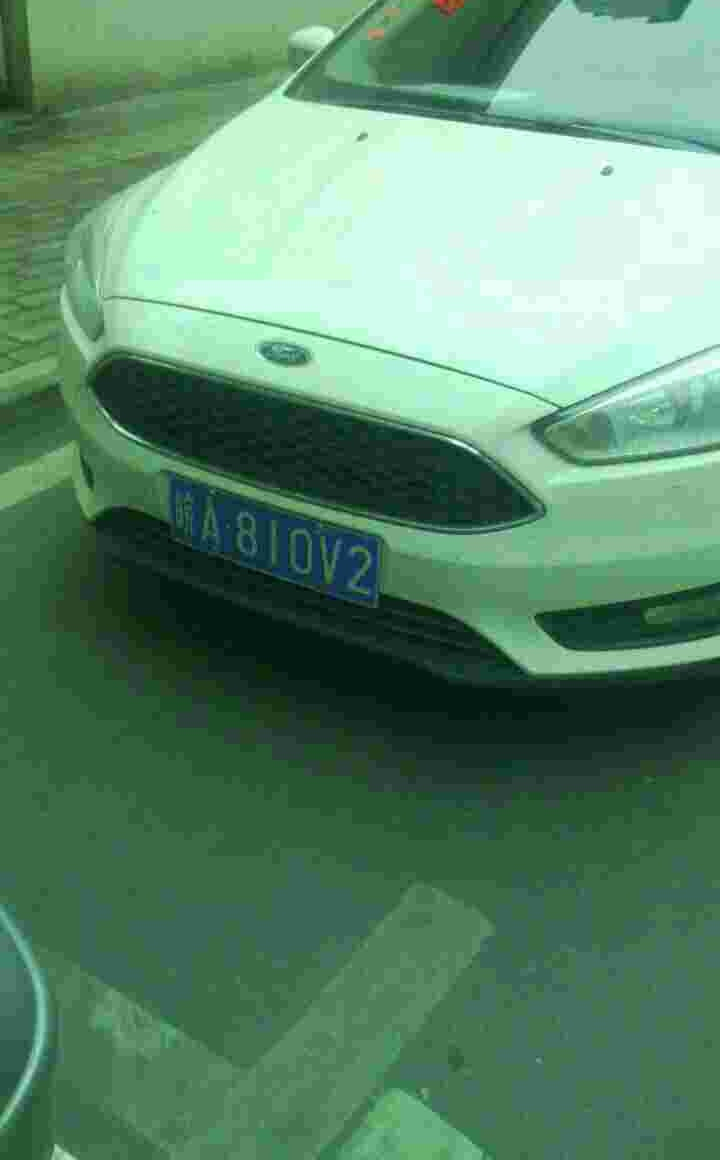license_plate: (175, 471, 382, 594)
